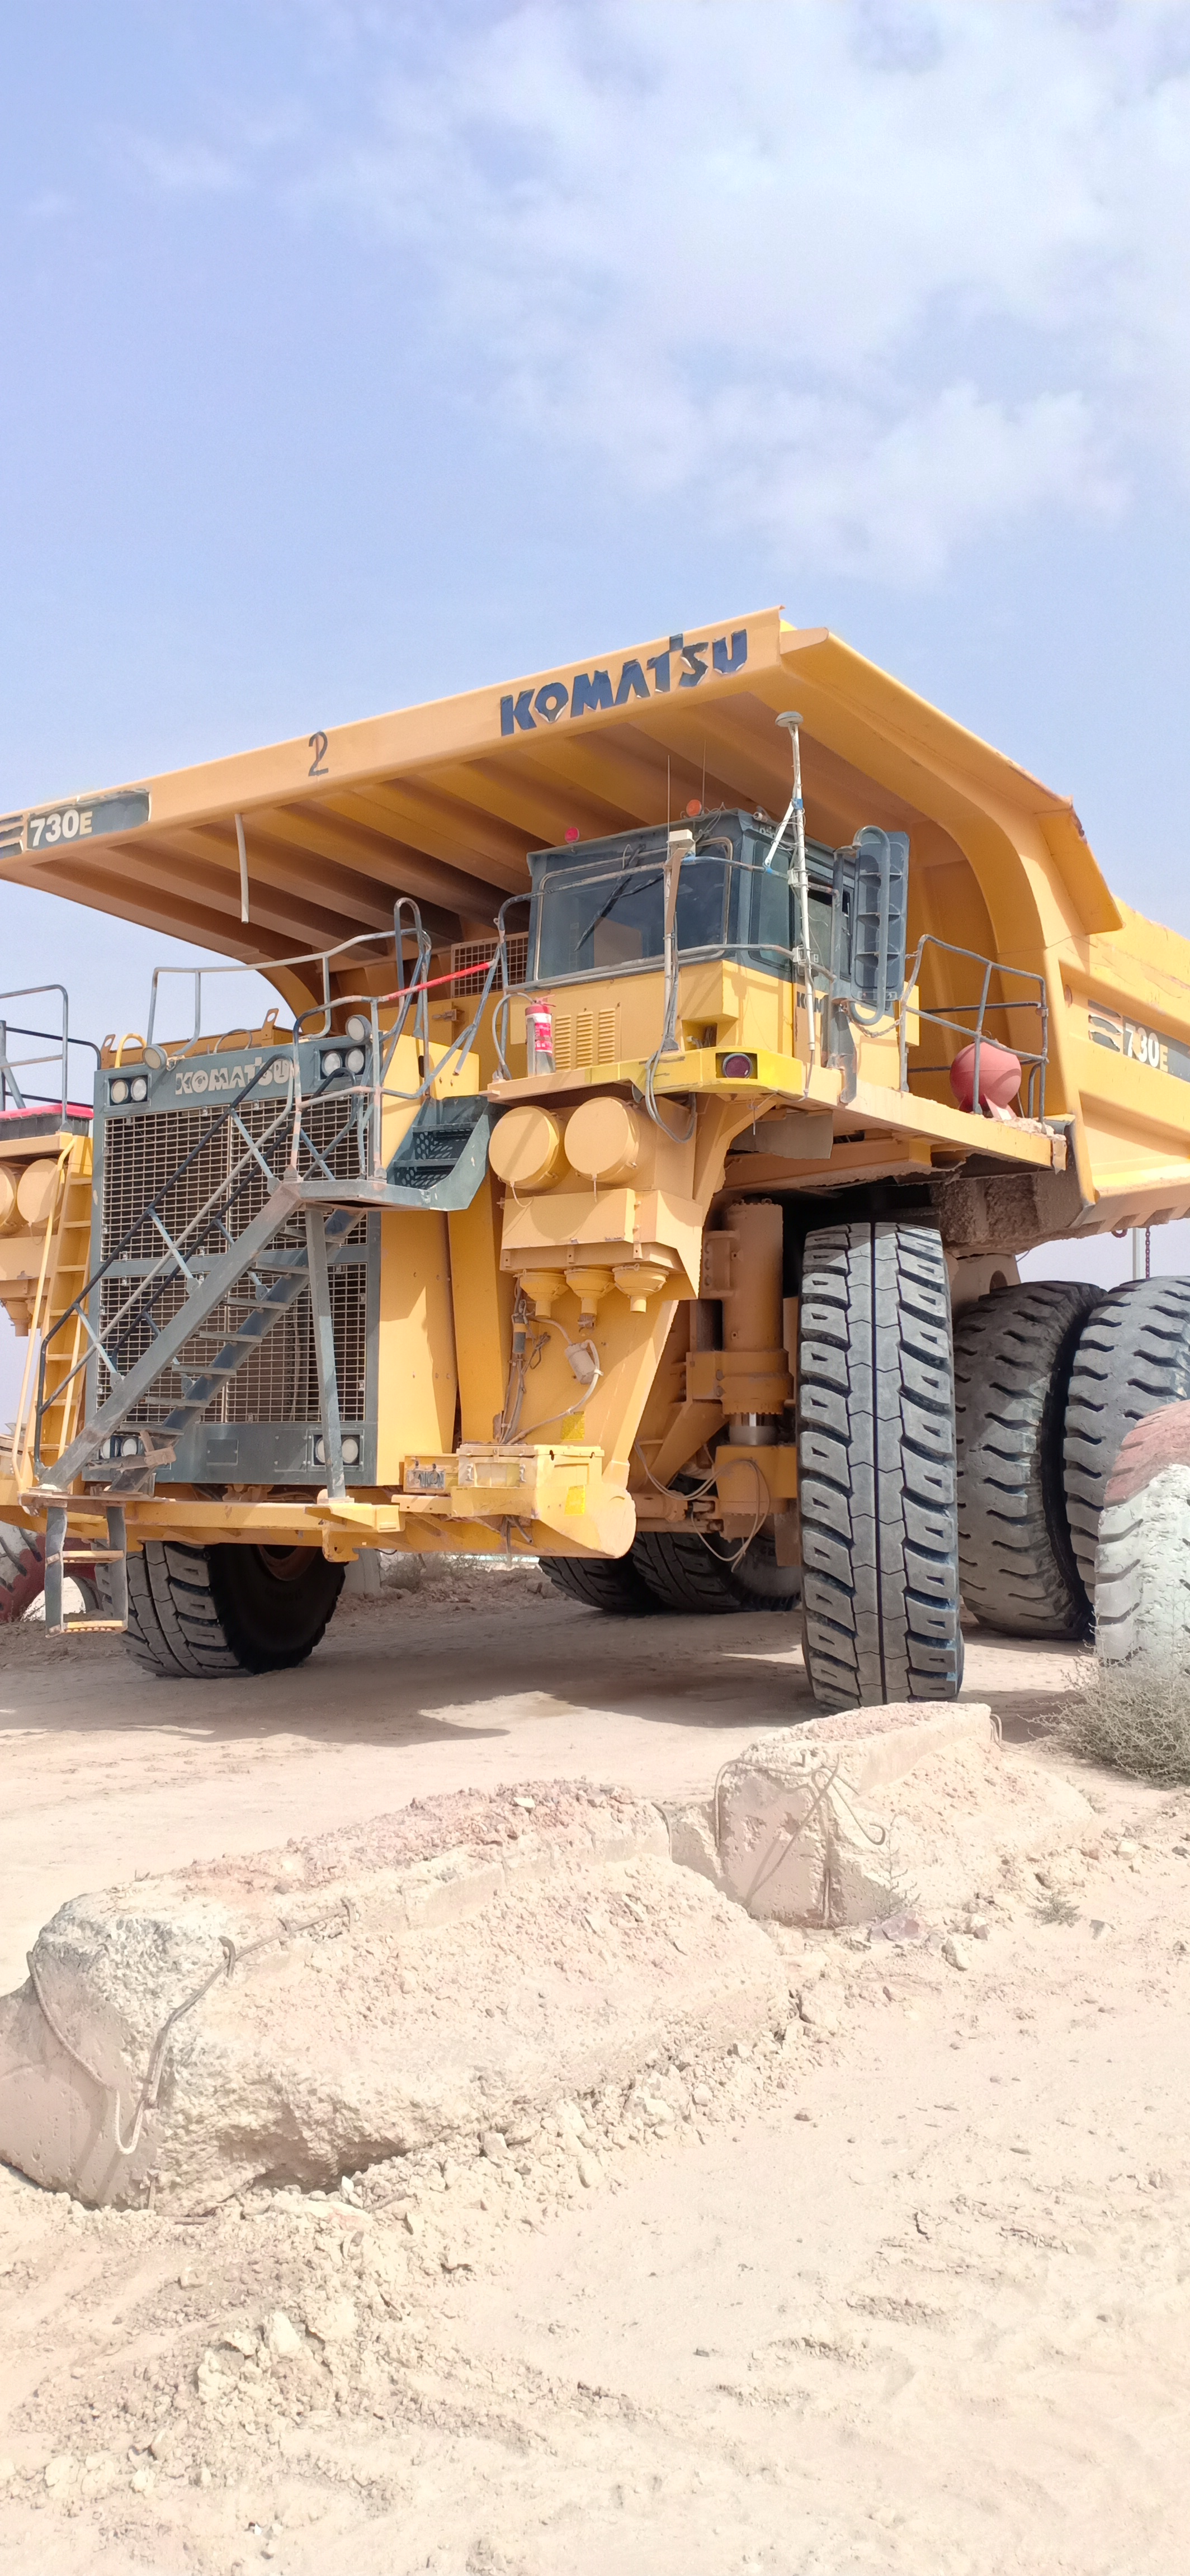camion: (15, 590, 1190, 1707)
